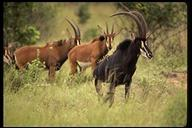antelope: (91, 9, 154, 107), (12, 17, 82, 81), (67, 21, 126, 78)
grass: (5, 82, 93, 125)
